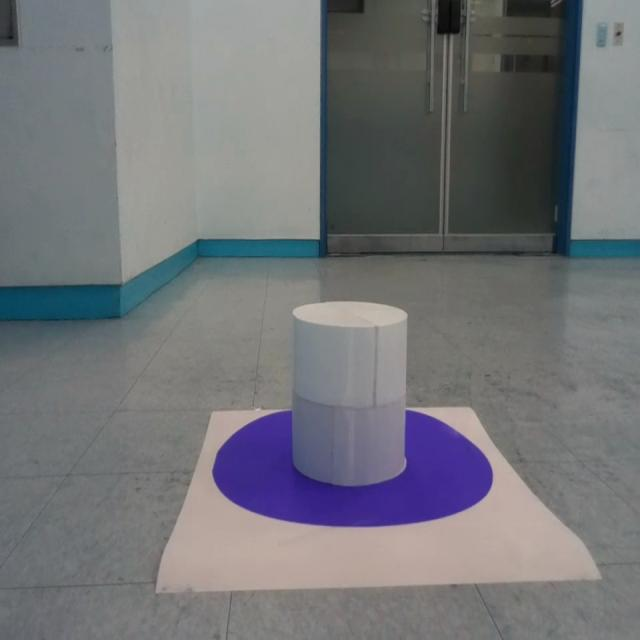cylinder: (291, 301, 409, 487)
